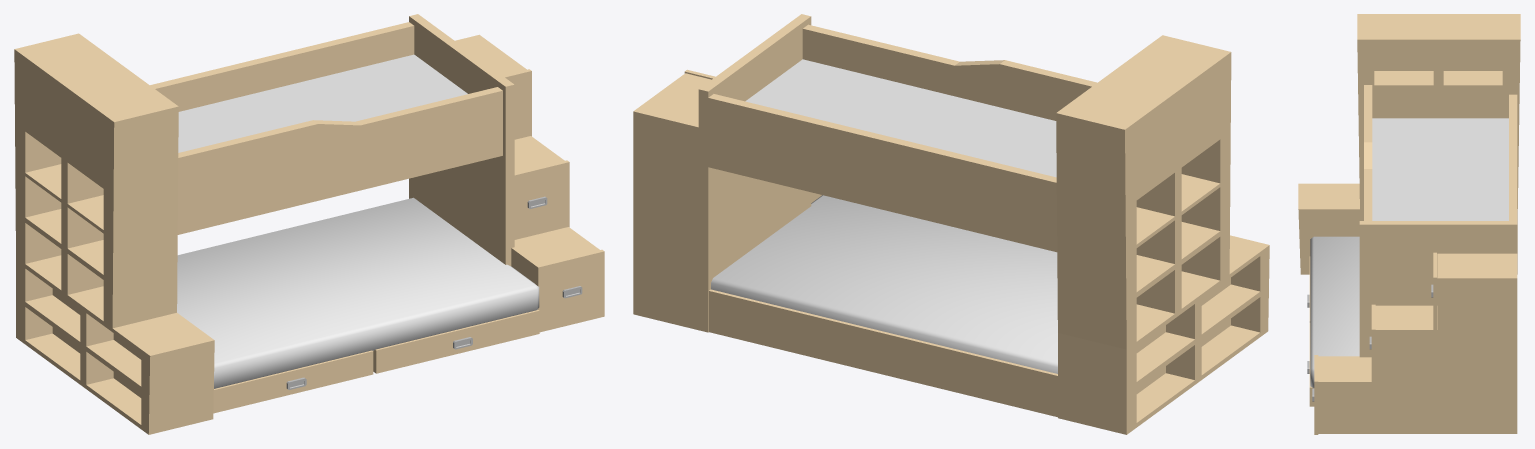
The model's file is Bed 2.fbx.
3 views of the same model, side by side, from view 1: azimuth 30°, elevation 25°; view 2: azimuth 150°, elevation 25°; view 3: azimuth 270°, elevation 25° (orthographic). The views are drawn at different scales.
Parts seen in each view (by area): view 1: bed1.004, bed1.002, bed1.003, bed1.001; view 2: bed1.004, bed1.003, bed1.002, bed1.001; view 3: bed1.001, bed1.004, bed1.003, bed1.002.
Part boxes in pixels (bbox=[...]): bed1.004: bbox=[14, 33, 214, 434]; bed1.002: bbox=[177, 197, 539, 413]; bed1.003: bbox=[150, 22, 502, 234]; bed1.001: bbox=[409, 14, 604, 332]; bed1.004: bbox=[1056, 35, 1269, 434]; bed1.003: bbox=[708, 24, 1096, 252]; bed1.002: bbox=[709, 195, 1057, 417]; bed1.001: bbox=[633, 14, 821, 332]; bed1.001: bbox=[1312, 221, 1517, 434]; bed1.004: bbox=[1298, 14, 1520, 274]; bed1.003: bbox=[1364, 85, 1517, 220]; bed1.002: bbox=[1307, 236, 1359, 406].
Size of the model in its own units: 940 by 558 by 476.
